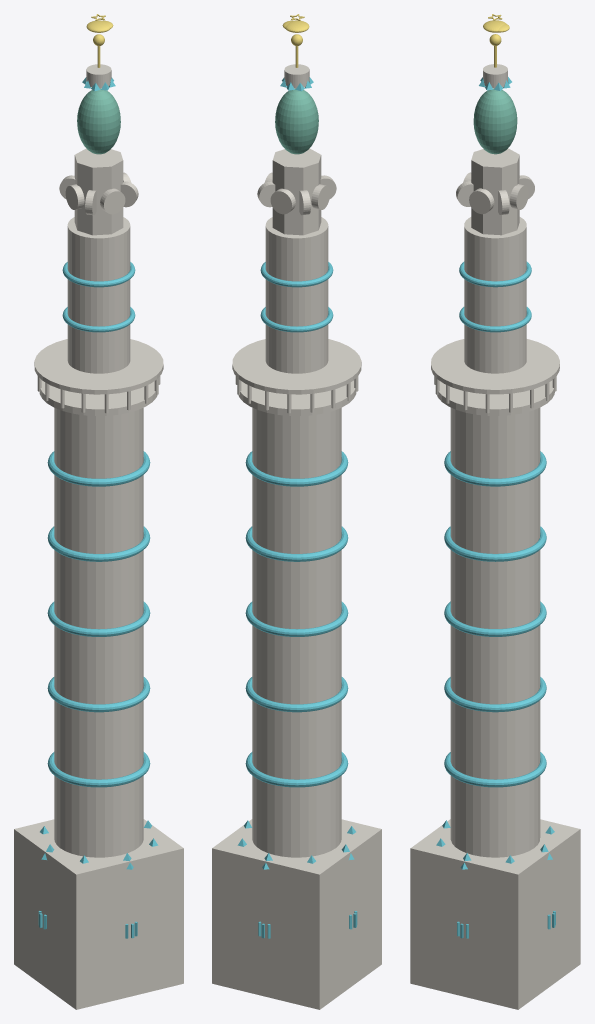
3 renders of one model, left to right at view 1: azimuth 30°, elevation 25°; view 2: azimuth 150°, elevation 25°; view 3: azimuth 330°, elevation 25°, orthographic.
Parts seen in each view (by area): view 1: Fusto_Cilindrico, Base_Quadrata, Secondo_Fusto, Cornice_Balcone, Lanterna_Ottagonale, Cupola_Qubba, Base_Balcone, Fascia_Decorativa_5, Fascia_Decorativa_1, Fascia_Decorativa_2, Fascia_Decorativa_3, Fascia_Decorativa_4 (+5 smaller); view 2: Fusto_Cilindrico, Base_Quadrata, Secondo_Fusto, Cornice_Balcone, Lanterna_Ottagonale, Cupola_Qubba, Base_Balcone, Fascia_Decorativa_5, Fascia_Decorativa_1, Fascia_Decorativa_2, Fascia_Decorativa_3, Fascia_Decorativa_4 (+5 smaller); view 3: Fusto_Cilindrico, Base_Quadrata, Secondo_Fusto, Cornice_Balcone, Lanterna_Ottagonale, Cupola_Qubba, Base_Balcone, Fascia_Decorativa_4, Fascia_Decorativa_5, Fascia_Decorativa_1, Fascia_Decorativa_2, Fascia_Decorativa_3 (+4 smaller).
Boxes of the visible parts, box(x1,y1,x2,y2) form: Fusto_Cilindrico: box(54, 407, 143, 857); Base_Quadrata: box(14, 819, 183, 1009); Secondo_Fusto: box(67, 217, 130, 373); Cornice_Balcone: box(34, 339, 163, 394); Lanterna_Ottagonale: box(74, 148, 123, 235); Cupola_Qubba: box(77, 88, 120, 154); Base_Balcone: box(39, 380, 157, 415); Fascia_Decorativa_5: box(47, 451, 150, 486); Fascia_Decorativa_1: box(47, 752, 150, 787); Fascia_Decorativa_2: box(47, 677, 150, 712); Fascia_Decorativa_3: box(47, 601, 150, 636); Fascia_Decorativa_4: box(47, 526, 150, 561); Fusto_Cilindrico: box(252, 407, 341, 857); Base_Quadrata: box(212, 819, 381, 1009); Secondo_Fusto: box(265, 217, 328, 373); Cornice_Balcone: box(232, 339, 361, 394); Lanterna_Ottagonale: box(272, 148, 321, 235); Cupola_Qubba: box(275, 88, 318, 154); Base_Balcone: box(238, 380, 356, 415); Fascia_Decorativa_5: box(245, 451, 348, 486); Fascia_Decorativa_1: box(245, 752, 348, 787); Fascia_Decorativa_2: box(245, 677, 348, 712); Fascia_Decorativa_3: box(245, 601, 348, 636); Fascia_Decorativa_4: box(245, 526, 348, 561); Fusto_Cilindrico: box(450, 407, 540, 857); Base_Quadrata: box(410, 819, 580, 1009); Secondo_Fusto: box(464, 217, 526, 373); Cornice_Balcone: box(431, 339, 559, 394); Lanterna_Ottagonale: box(471, 148, 519, 235); Cupola_Qubba: box(473, 88, 517, 154); Base_Balcone: box(437, 380, 554, 415); Fascia_Decorativa_4: box(444, 526, 546, 561); Fascia_Decorativa_5: box(444, 451, 546, 486); Fascia_Decorativa_1: box(444, 752, 546, 787); Fascia_Decorativa_2: box(444, 677, 546, 712); Fascia_Decorativa_3: box(444, 601, 546, 636).
Size of the model in its own units: 2.75 by 21.21 by 2.75.
